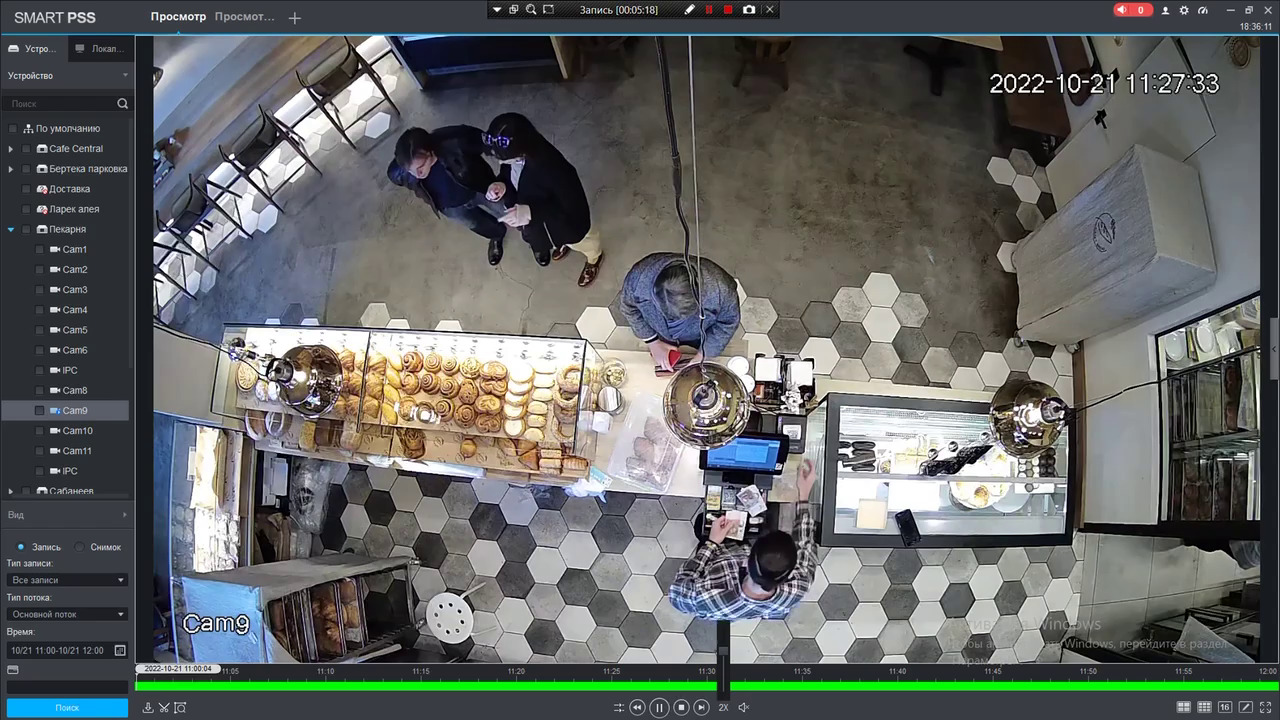openedcash: (698, 426, 786, 536)
pack: (619, 395, 683, 497)
person: (374, 128, 554, 266), (476, 117, 600, 286), (612, 251, 739, 375), (681, 518, 837, 613)
